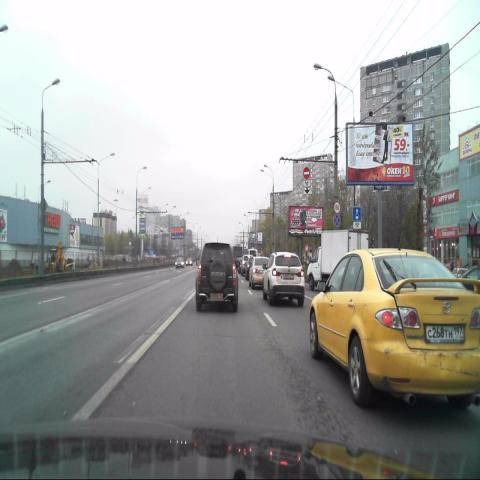3_1: (303, 166, 310, 179)
3_24: (333, 201, 340, 213)
3_27: (333, 214, 341, 227)
5_14: (353, 206, 361, 220)
